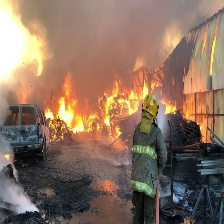fire: (40, 71, 188, 137), (1, 10, 23, 83)
smoke: (24, 1, 190, 77)
